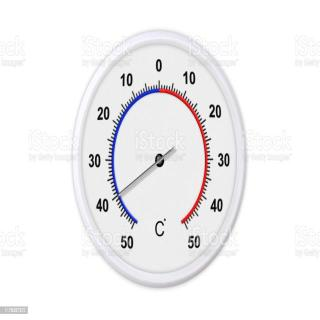gauge: (58, 29, 255, 295), (174, 215, 195, 233), (128, 216, 141, 236), (154, 152, 166, 168), (109, 193, 119, 203)
